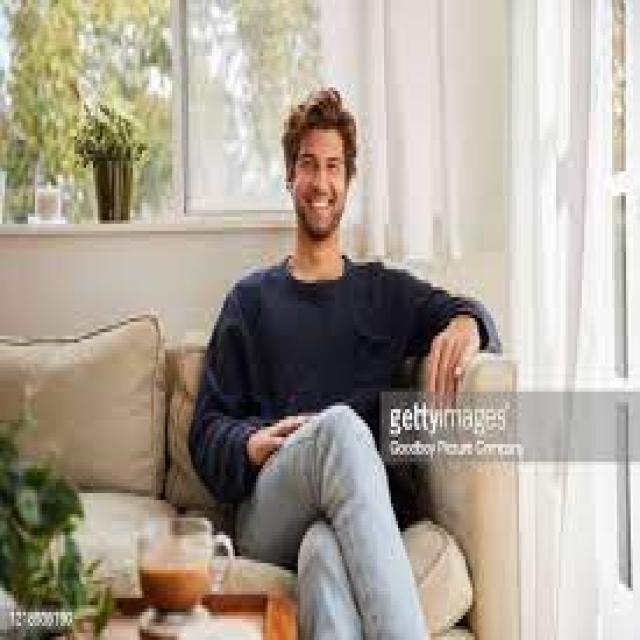sit: (198, 56, 491, 640)
